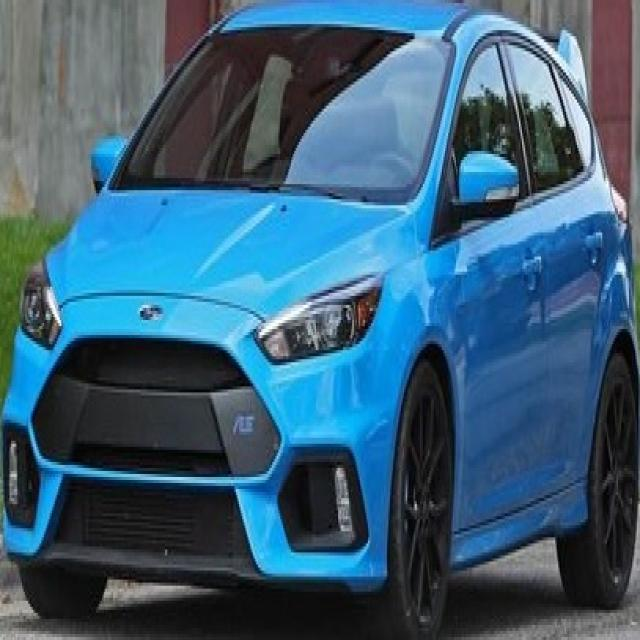blue: (3, 6, 639, 640)
